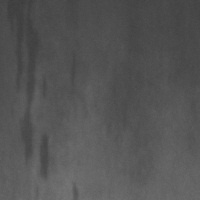inclusion: (9, 1, 40, 168), (35, 128, 56, 188), (66, 52, 80, 89)
